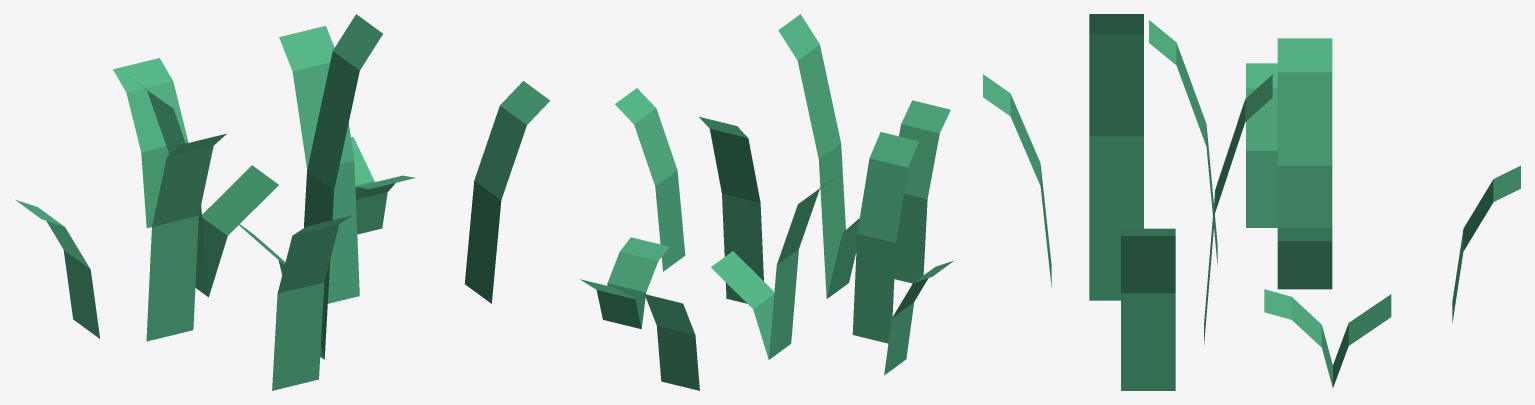
Rendered from grass_tuft.glb.
3 views of the same model, side by side, from view 1: azimuth 30°, elevation 25°; view 2: azimuth 150°, elevation 25°; view 3: azimuth 270°, elevation 25° (orthographic). The views are drawn at different scales.
Parts seen in each view (by area): view 1: grass_tuft; view 2: grass_tuft; view 3: grass_tuft.
Boxes of the visible parts, <box> form: grass_tuft: <box>15,14,550,390</box>; grass_tuft: <box>580,14,953,390</box>; grass_tuft: <box>983,14,1520,390</box>.
Bounding box in the file's own units: 0.3811 × 0.254 × 0.3922.
